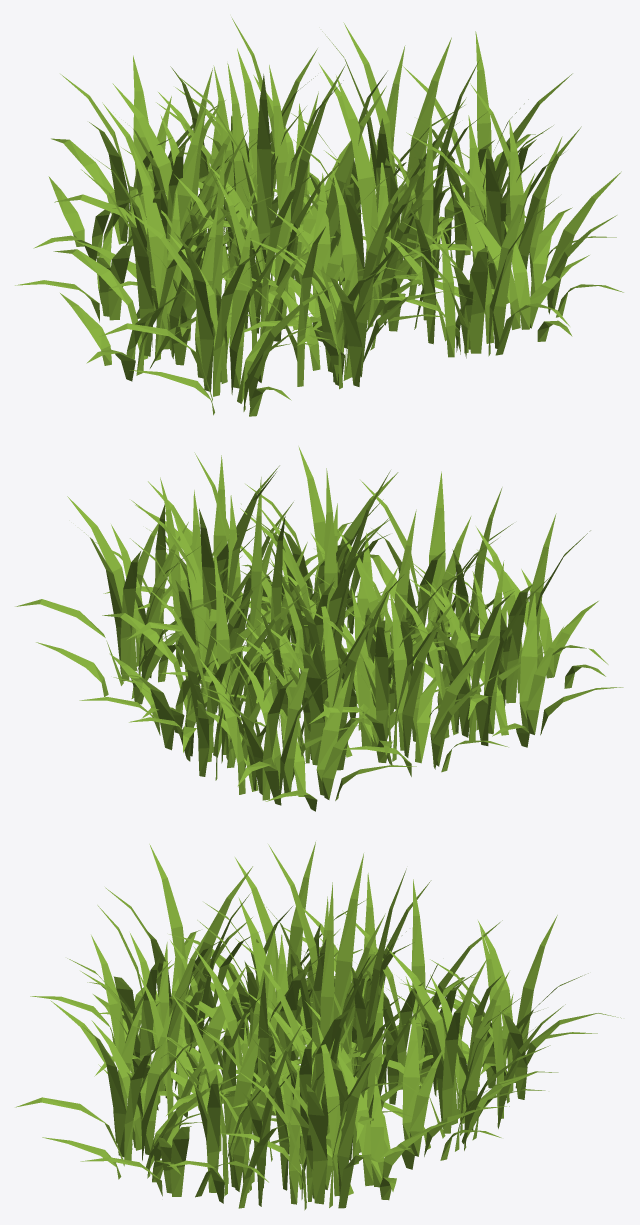
File: SM_Grass_Middle_C.fbx
The picture shows the model from 3 angles, top to bottom: view 1: azimuth 30°, elevation 25°; view 2: azimuth 150°, elevation 25°; view 3: azimuth 270°, elevation 25°; orthographic projection. The views are drawn at different scales.
Parts seen in each view (by area): view 1: grass-middle-c; view 2: grass-middle-c; view 3: grass-middle-c.
Part boxes in pixels (<box>): grass-middle-c: <box>15,17,623,416</box>; grass-middle-c: <box>15,446,623,811</box>; grass-middle-c: <box>15,842,621,1210</box>.
Bounding box in the file's own units: 1.71 × 0.7881 × 1.71.
